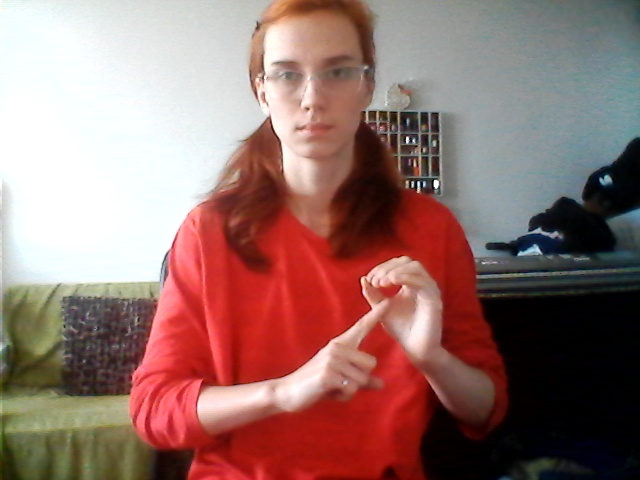q: (291, 248, 457, 433)
